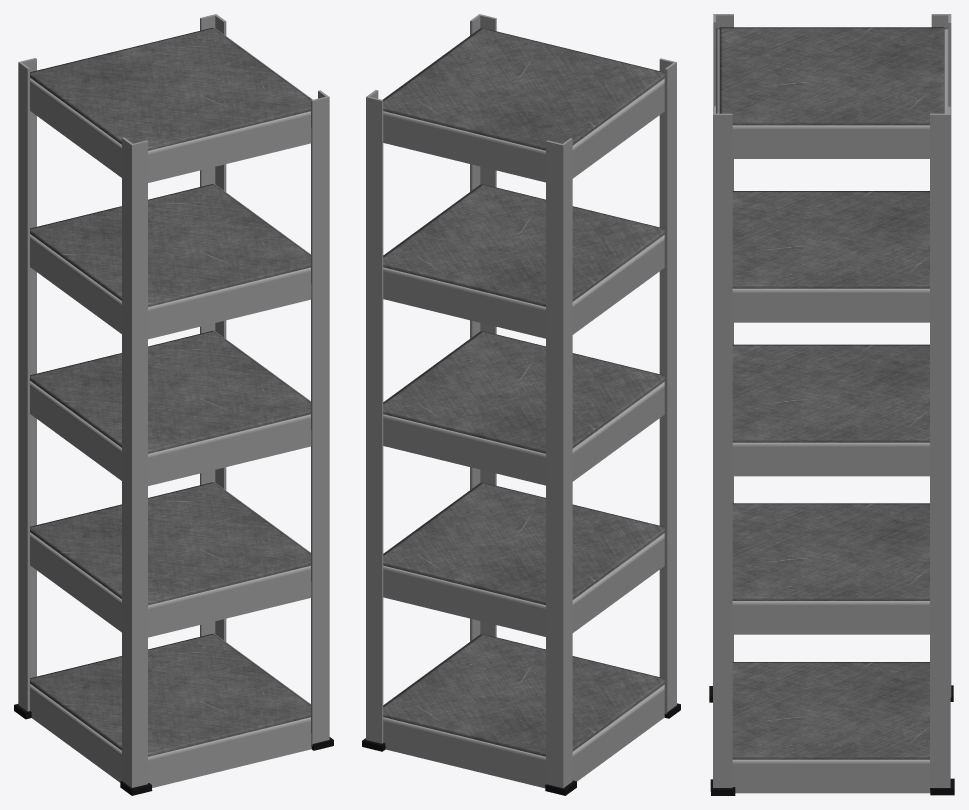
File: CR_ShelfA1.fbx
The picture shows the model from 3 angles, left to right: view 1: azimuth 30°, elevation 25°; view 2: azimuth 150°, elevation 25°; view 3: azimuth 270°, elevation 25°; orthographic projection. The views are drawn at different scales.
Visible parts, largest first — view 1: ShelfA1; view 2: ShelfA1; view 3: ShelfA1.
Part boxes in pixels (x1=…): ShelfA1: x1=14, y1=14, x2=333, y2=795; ShelfA1: x1=362, y1=14, x2=680, y2=795; ShelfA1: x1=709, y1=14, x2=954, y2=795.
Size of the model in its own units: 84.59 by 257 by 84.12.
